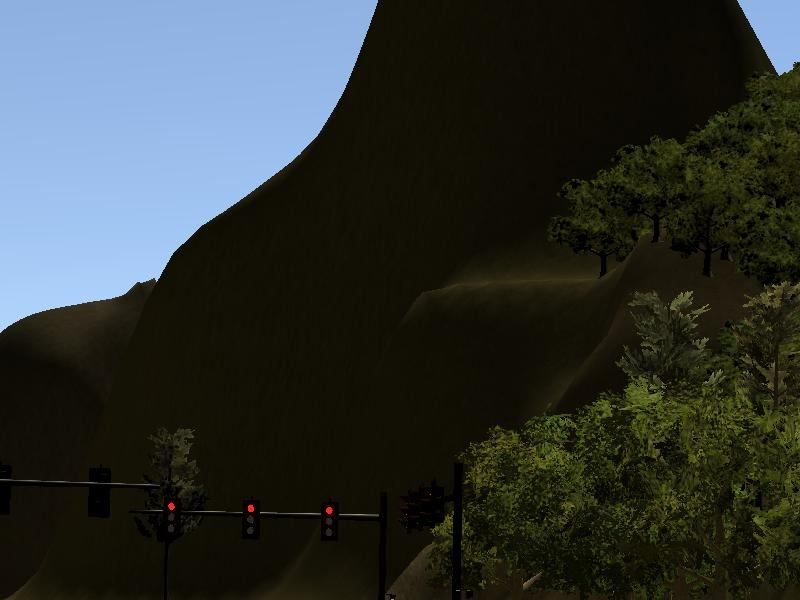RED: (162, 496, 183, 542), (240, 497, 261, 543), (317, 497, 338, 543)
